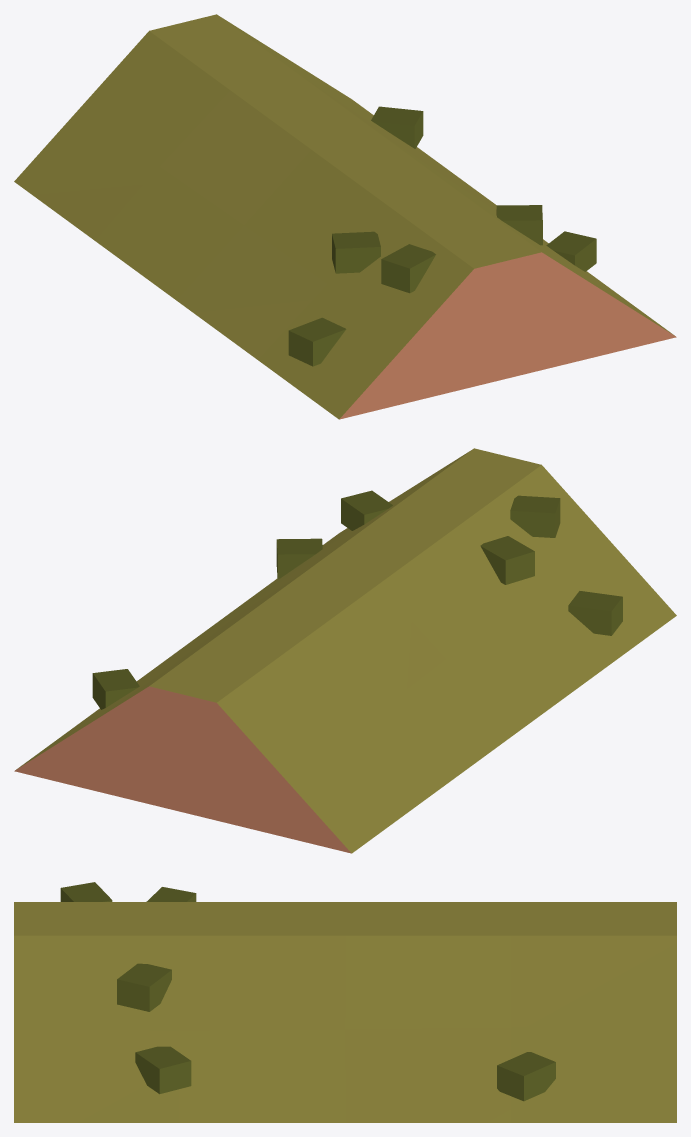
Rendered from SM_TaludDeposito_v0_Liso_LOD1.fbx.
The picture shows the model from 3 angles, top to bottom: view 1: azimuth 30°, elevation 25°; view 2: azimuth 150°, elevation 25°; view 3: azimuth 270°, elevation 25°; orthographic projection.
Parts seen in each view (by area): view 1: SM_bloques.talud_deposito_v0_LOD1; view 2: SM_bloques.talud_deposito_v0_LOD1; view 3: SM_bloques.talud_deposito_v0_LOD1.
Part boxes in pixels (box(x1,y1,x2,y2)): SM_bloques.talud_deposito_v0_LOD1: box(14, 14, 676, 419); SM_bloques.talud_deposito_v0_LOD1: box(14, 448, 676, 853); SM_bloques.talud_deposito_v0_LOD1: box(14, 882, 676, 1122).
Size of the model in its own units: 6 by 2 by 10.
